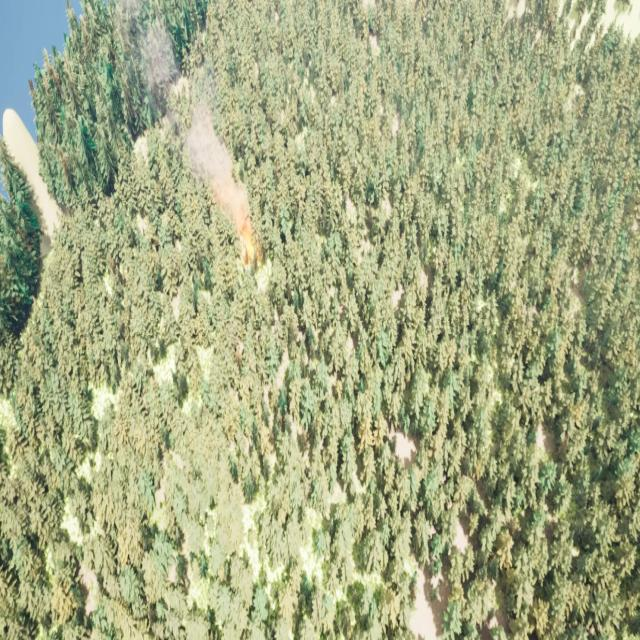fire: (234, 225, 261, 260)
smoke: (140, 25, 252, 226)
